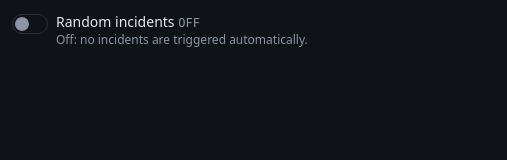
it: RandomIncidentsControl › turns on only after the backend confirms, then shows the server state
Click the switch named "Random incidents": (30, 24) [12,14,48,34]
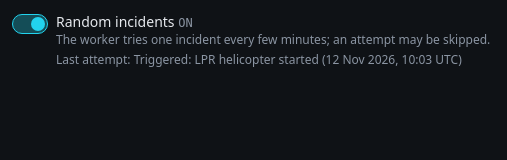
Check: the switch is checked, box [12,14,48,34]
